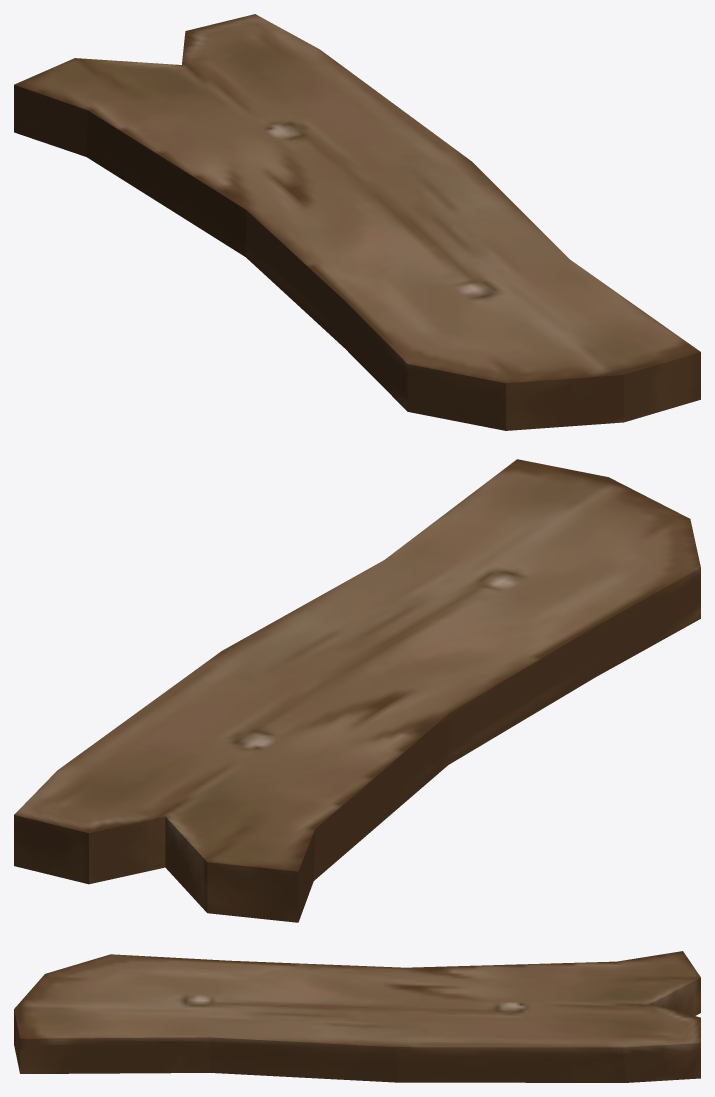
File: FB5_mubankuai03.FBX
3 renders of one model, top to bottom at view 1: azimuth 30°, elevation 25°; view 2: azimuth 150°, elevation 25°; view 3: azimuth 270°, elevation 25°, orthographic. The views are drawn at different scales.
Visible parts, largest first — view 1: FB5_mubankuai03; view 2: FB5_mubankuai03; view 3: FB5_mubankuai03.
Boxes of the visible parts, x1,y1,x2,y2 form: FB5_mubankuai03: [14, 14, 700, 430]; FB5_mubankuai03: [14, 459, 700, 922]; FB5_mubankuai03: [14, 951, 700, 1082].
Size of the model in its own units: 597 by 102 by 1796.
Materials: 1 (1 with a texture image).
